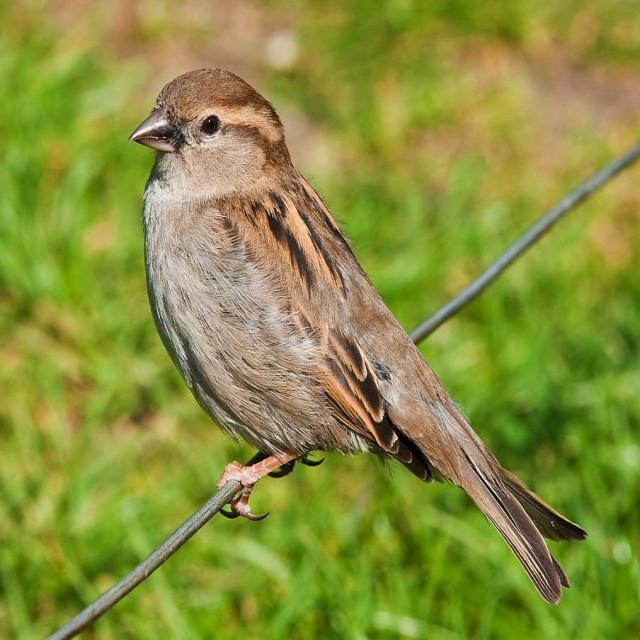sparrow: (130, 69, 585, 603)
